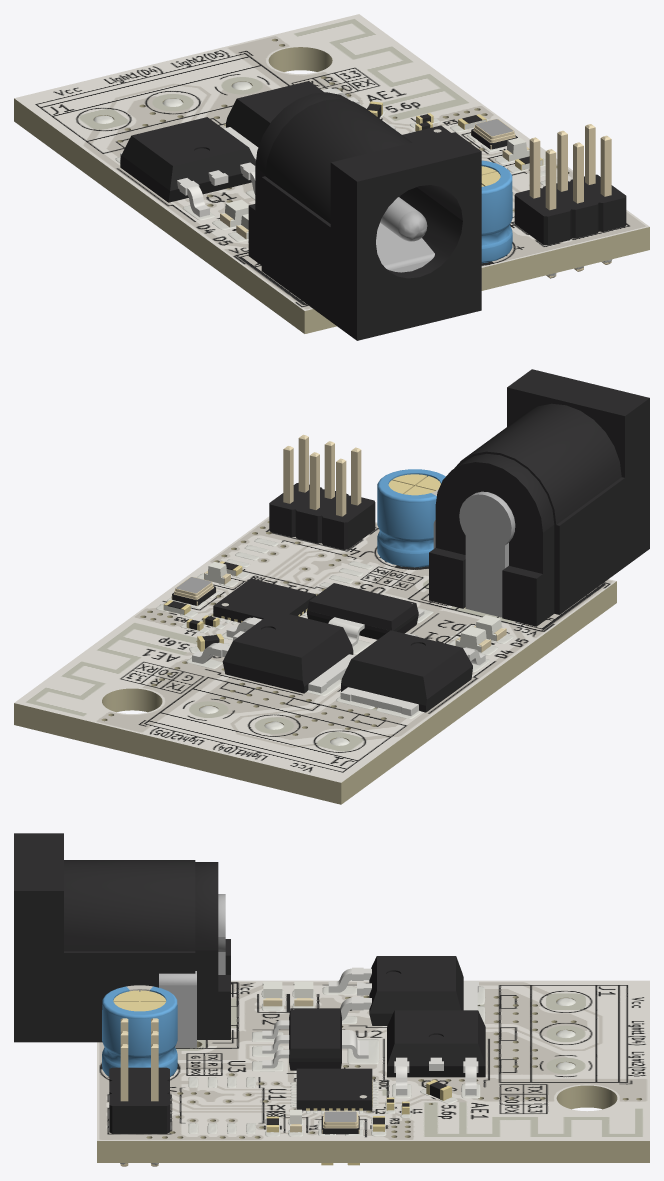
File: 2Lights_v4.glb
3 views of the same model, one above another, from view 1: azimuth 30°, elevation 25°; view 2: azimuth 150°, elevation 25°; view 3: azimuth 270°, elevation 25° (orthographic). The views are drawn at different scales.
Parts seen in each view (by area): view 1: PCB_2Lights_v4, BarrelJack_GCT_DCJ200-10-A_Horizontal, PinHeader_2x03_P2.00mm_Vertical, TO-252-2, TO-252-2.001, CP_Radial_D5.0mm_P2.00mm, Crystal_SMD_2520-4Pin_2.5x2.0mm, LED_0805_2012Metric, LED_0603_1608Metric; view 2: PCB_2Lights_v4, BarrelJack_GCT_DCJ200-10-A_Horizontal, TO-252-2.001, TO-252-2, PinHeader_2x03_P2.00mm_Vertical, CP_Radial_D5.0mm_P2.00mm, SOT-223, QFN-32-1EP_5x5mm_P0.5mm_EP3.45x3.45mm, Crystal_SMD_2520-4Pin_2.5x2.0mm, LED_0805_2012Metric; view 3: PCB_2Lights_v4, BarrelJack_GCT_DCJ200-10-A_Horizontal, TO-252-2.001, TO-252-2, CP_Radial_D5.0mm_P2.00mm, PinHeader_2x03_P2.00mm_Vertical, SOT-223, QFN-32-1EP_5x5mm_P0.5mm_EP3.45x3.45mm, Crystal_SMD_2520-4Pin_2.5x2.0mm, LED_0805_2012Metric, LED_0805_2012Metric.001, SOLDER_AMS1117_3_3_U2_8_2.
Part boxes in pixels (x1,y1,x2,y2): PCB_2Lights_v4: [14, 14, 649, 333]; BarrelJack_GCT_DCJ200-10-A_Horizontal: [248, 92, 481, 340]; PinHeader_2x03_P2.00mm_Vertical: [514, 124, 626, 278]; TO-252-2: [120, 117, 255, 217]; TO-252-2.001: [223, 81, 395, 160]; CP_Radial_D5.0mm_P2.00mm: [481, 160, 512, 263]; Crystal_SMD_2520-4Pin_2.5x2.0mm: [471, 119, 517, 149]; LED_0805_2012Metric: [220, 199, 248, 227]; LED_0603_1608Metric: [502, 137, 529, 161]; PCB_2Lights_v4: [14, 516, 616, 804]; BarrelJack_GCT_DCJ200-10-A_Horizontal: [429, 369, 649, 626]; TO-252-2.001: [192, 610, 355, 693]; TO-252-2: [340, 630, 485, 715]; PinHeader_2x03_P2.00mm_Vertical: [269, 434, 375, 549]; CP_Radial_D5.0mm_P2.00mm: [377, 469, 445, 567]; SOT-223: [307, 583, 424, 646]; QFN-32-1EP_5x5mm_P0.5mm_EP3.45x3.45mm: [213, 578, 315, 622]; Crystal_SMD_2520-4Pin_2.5x2.0mm: [171, 577, 216, 605]; LED_0805_2012Metric: [455, 626, 491, 652]; PCB_2Lights_v4: [97, 980, 649, 1162]; BarrelJack_GCT_DCJ200-10-A_Horizontal: [14, 833, 230, 1047]; TO-252-2.001: [387, 1010, 485, 1095]; TO-252-2: [328, 956, 478, 1025]; CP_Radial_D5.0mm_P2.00mm: [102, 985, 177, 1076]; PinHeader_2x03_P2.00mm_Vertical: [109, 1018, 169, 1166]; SOT-223: [262, 1008, 368, 1070]; QFN-32-1EP_5x5mm_P0.5mm_EP3.45x3.45mm: [296, 1068, 372, 1110]; Crystal_SMD_2520-4Pin_2.5x2.0mm: [321, 1111, 359, 1134]; LED_0805_2012Metric: [294, 981, 313, 1006]; LED_0805_2012Metric.001: [263, 981, 282, 1006]; SOLDER_AMS1117_3_3_U2_8_2: [347, 1039, 378, 1064].
Bounding box in the file's own units: 0.025 × 0.0146 × 0.0419.
27 materials, 2 textured.
